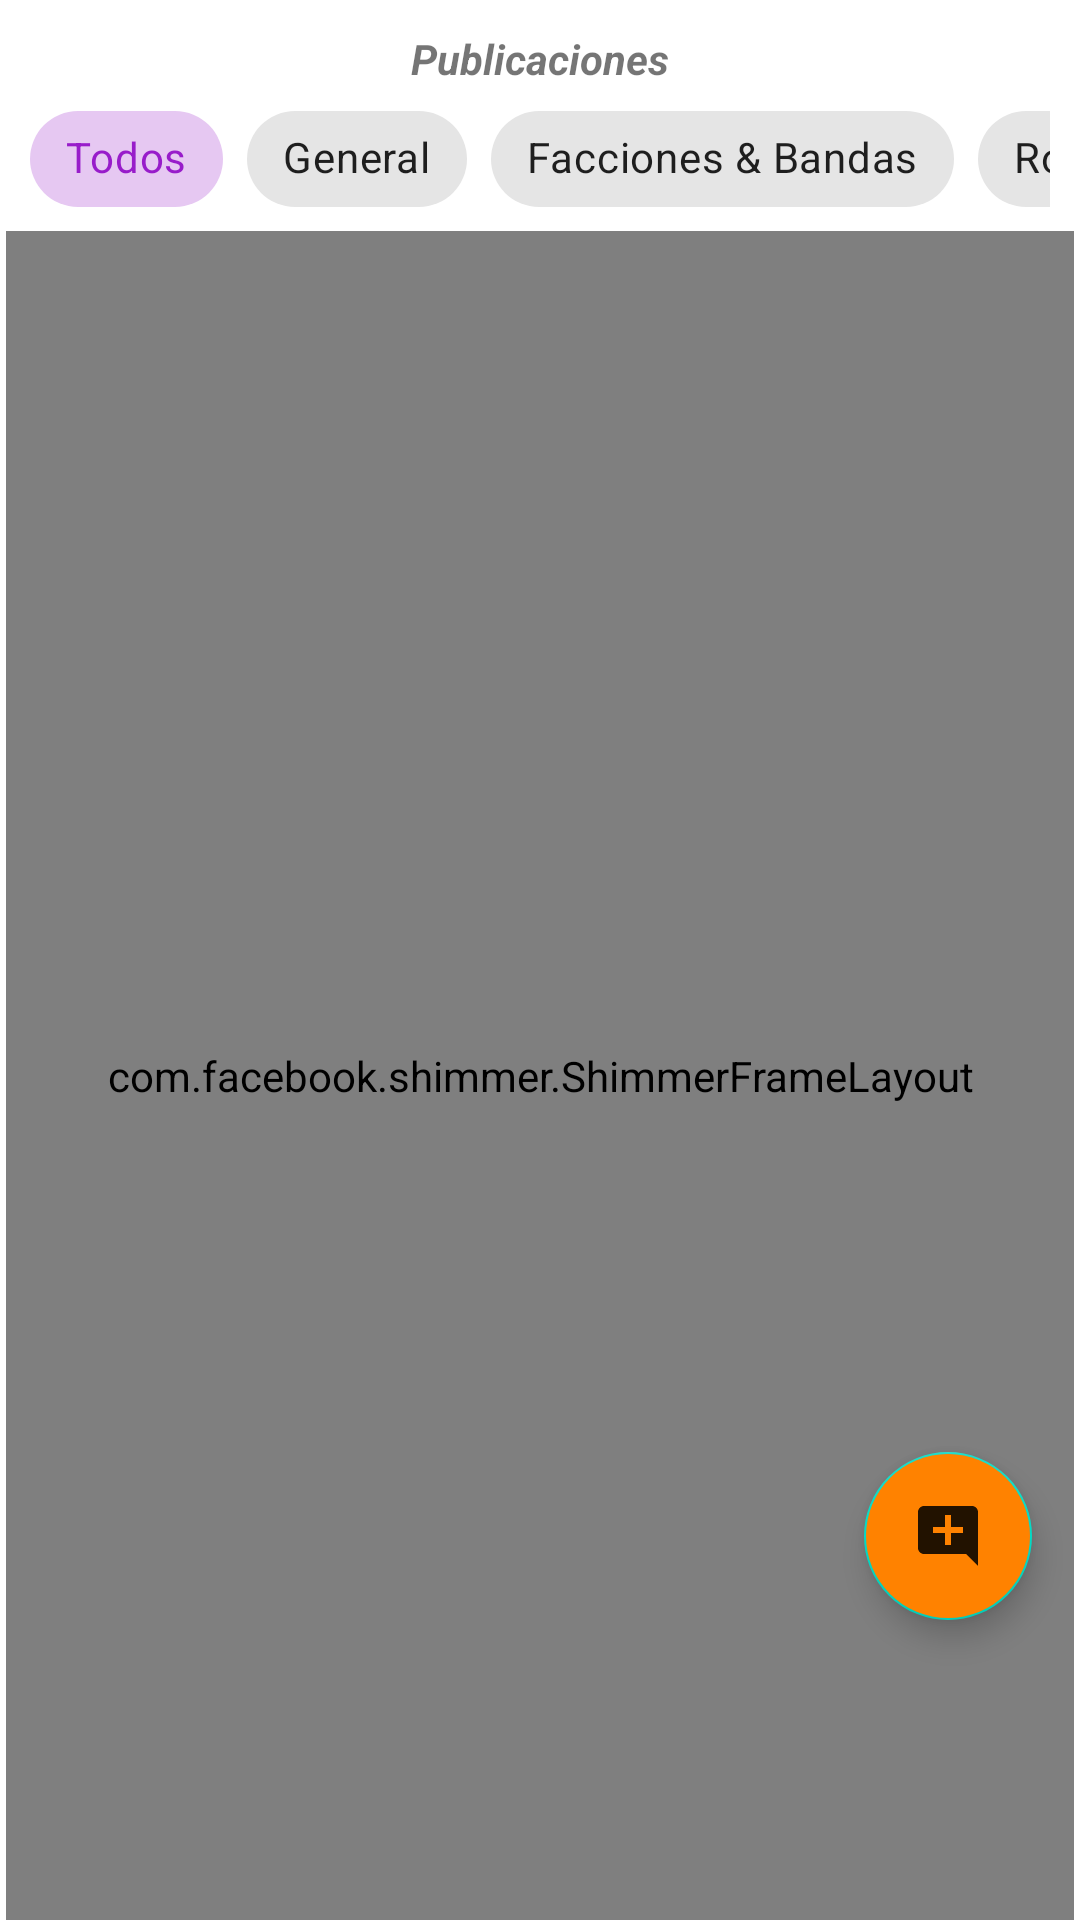

Screen size 1080×1920. Icon name, then its center in pixels as [x,y]:
New Post Button: [948,1536]
